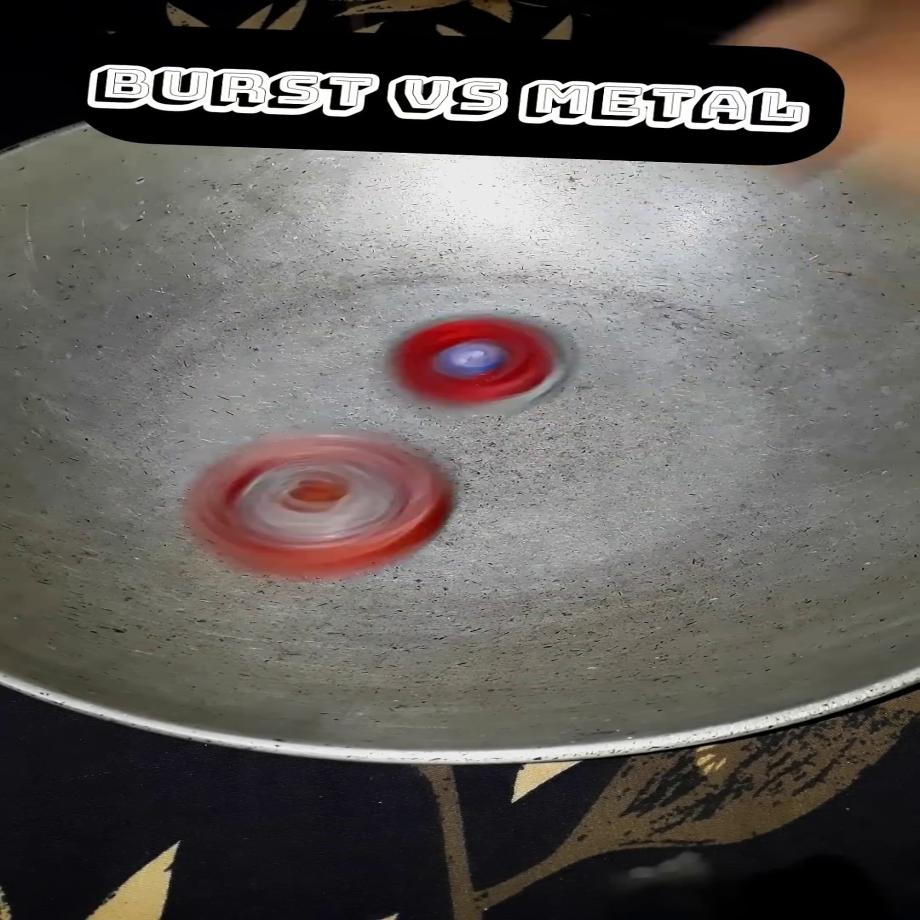beyblade: (177, 429, 458, 588), (345, 300, 581, 432)
